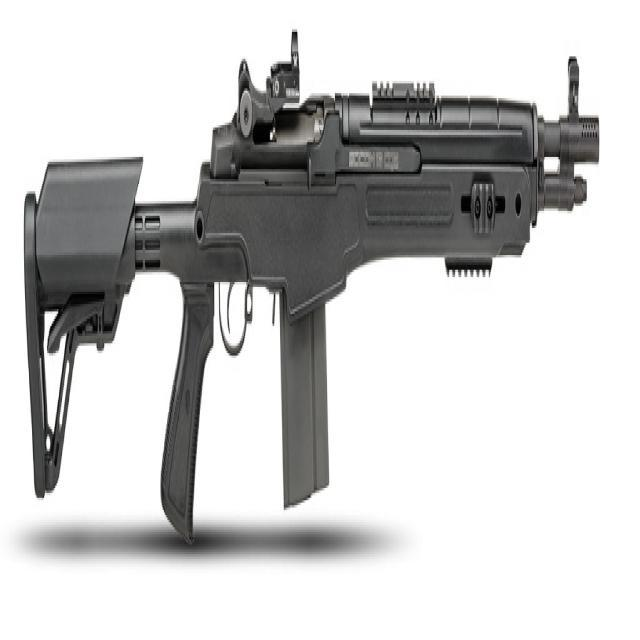rifle: (14, 11, 609, 542)
